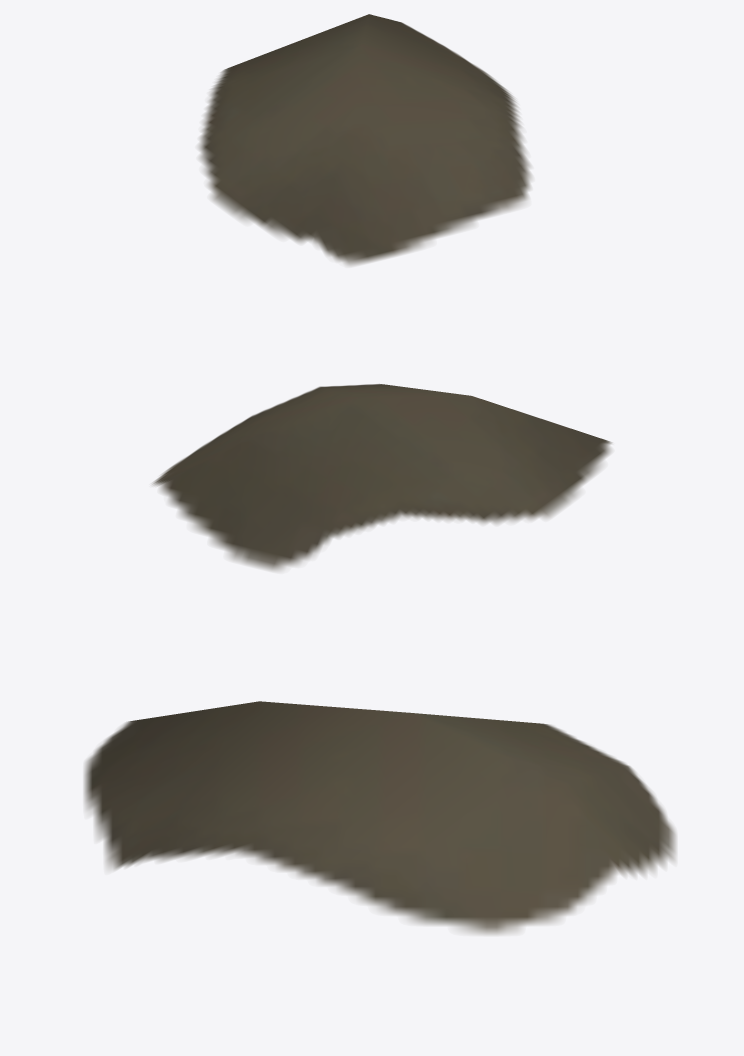
The model's file is Rock_4.glb.
The picture shows the model from 3 angles, top to bottom: view 1: azimuth 30°, elevation 25°; view 2: azimuth 150°, elevation 25°; view 3: azimuth 270°, elevation 25°; orthographic projection. The views are drawn at different scales.
Visible parts, largest first — view 1: Gravel_0_RockSingle_LOD0; view 2: Gravel_0_RockSingle_LOD0; view 3: Gravel_0_RockSingle_LOD0.
Part boxes in pixels (<box>): Gravel_0_RockSingle_LOD0: <box>198,14,531,265</box>; Gravel_0_RockSingle_LOD0: <box>152,384,611,570</box>; Gravel_0_RockSingle_LOD0: <box>84,701,676,934</box>.
Size of the model in its own units: 0.5118 by 0.1423 by 0.5118.
1 material, 1 textured.
